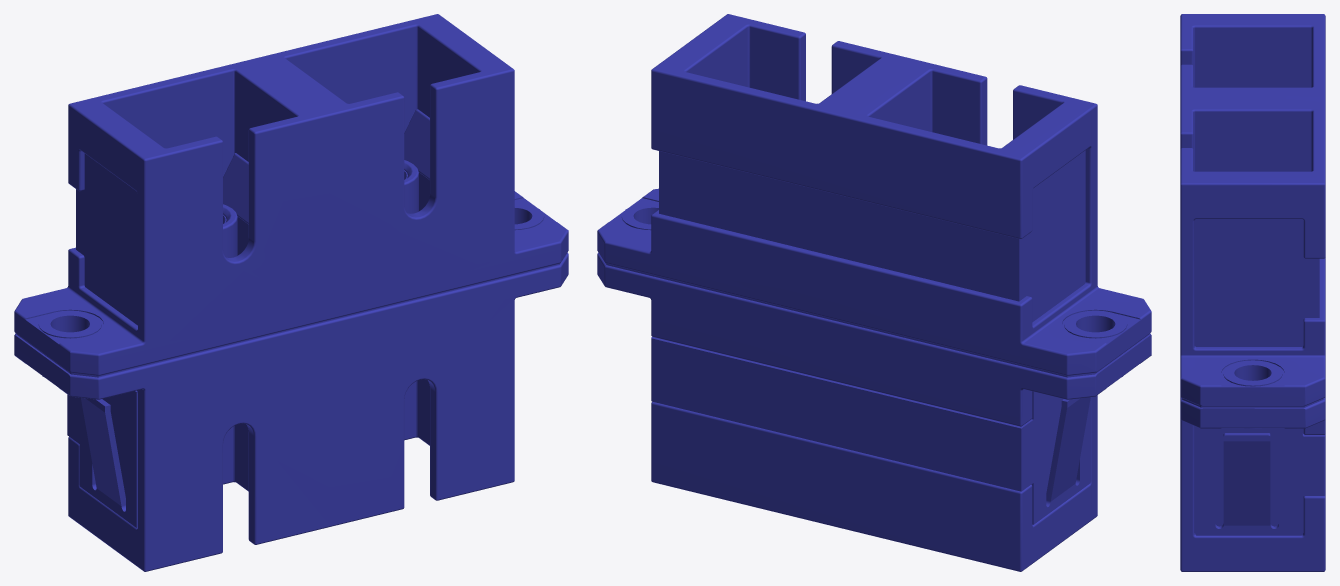
3 views of the same model, side by side, from view 1: azimuth 30°, elevation 25°; view 2: azimuth 150°, elevation 25°; view 3: azimuth 270°, elevation 25° (orthographic). The views are drawn at different scales.
Parts seen in each view (by area): view 1: my_object; view 2: my_object; view 3: my_object.
Boxes of the visible parts, box(x1,y1,x2,y2) form: my_object: box(14, 14, 568, 571); my_object: box(597, 14, 1151, 571); my_object: box(1180, 14, 1325, 571).
Bounding box in the file's own units: 34.67 × 27.43 × 9.27.
1 material, 1 textured.
